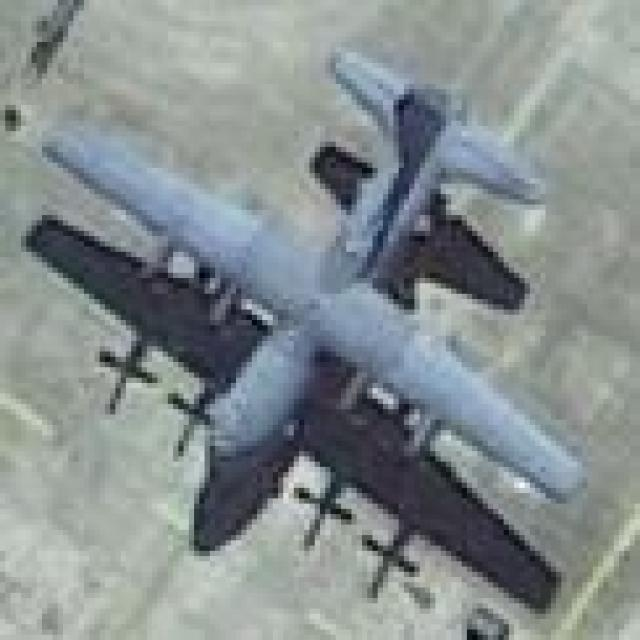C-130_TopDown: (16, 42, 587, 621)
